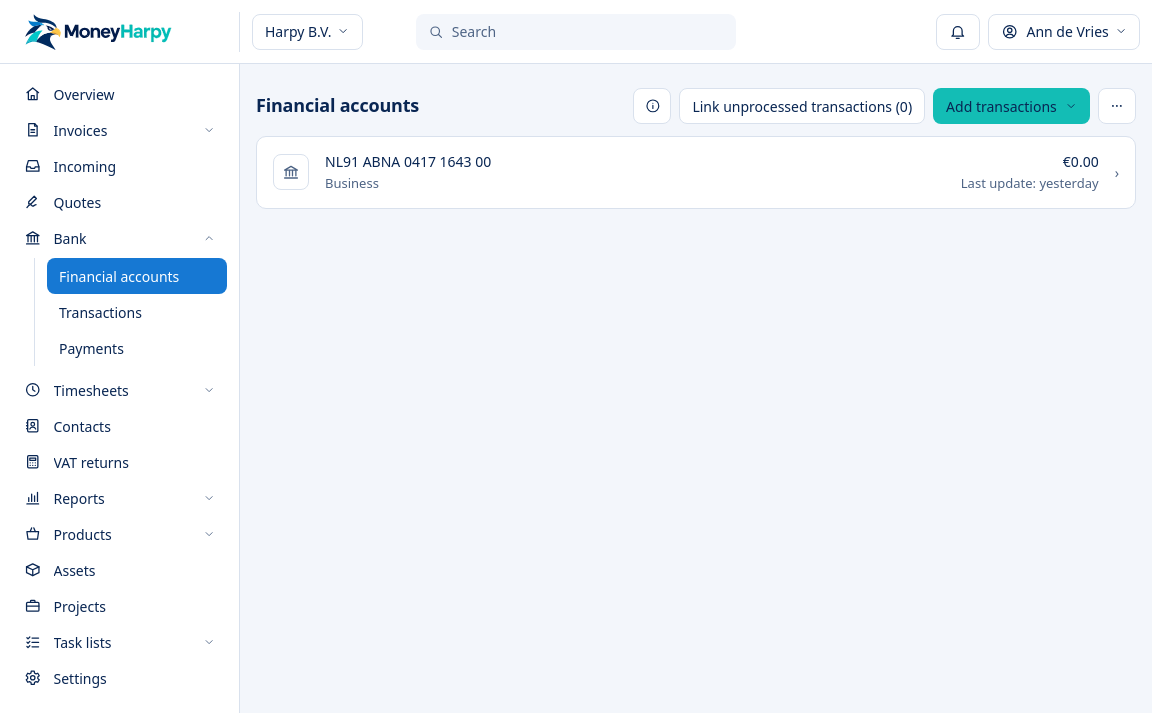
adding transactions › offers to connect the bank instead
Click the button "Add transactions" at (1012, 106), box [933, 88, 1090, 124]
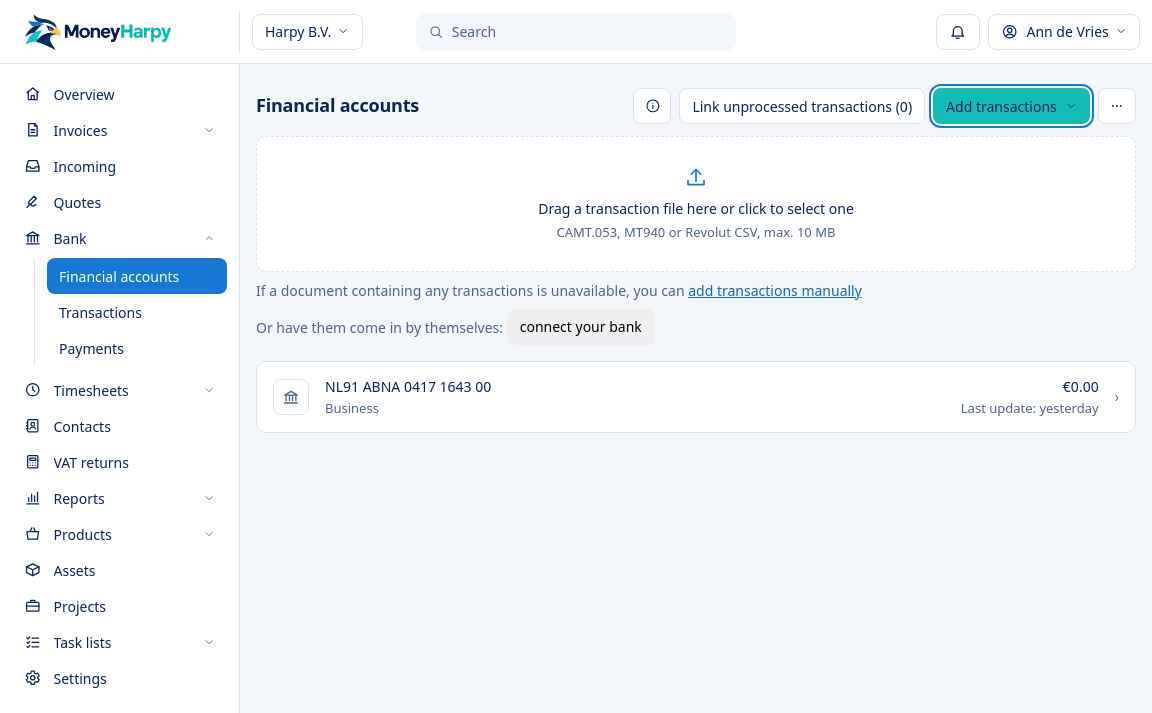
Click the button "connect your bank" at (581, 326), box [507, 308, 655, 344]
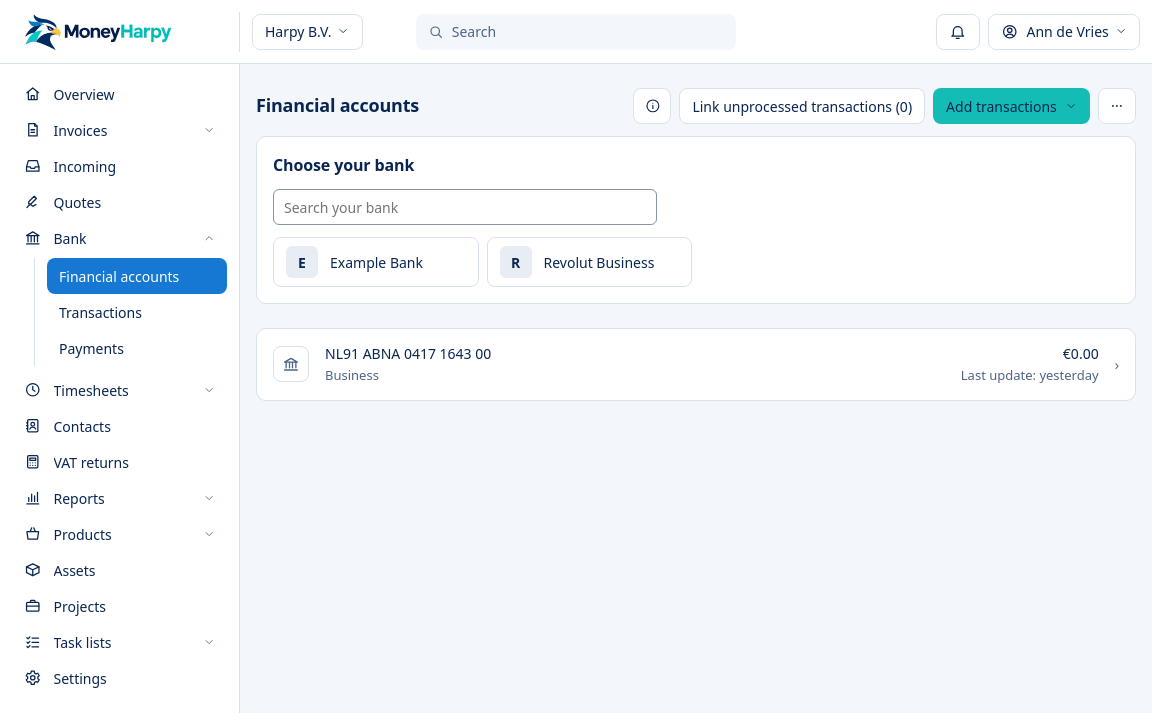
Result: the element named "Connect a bank" is shown at [256, 136, 1136, 304]
